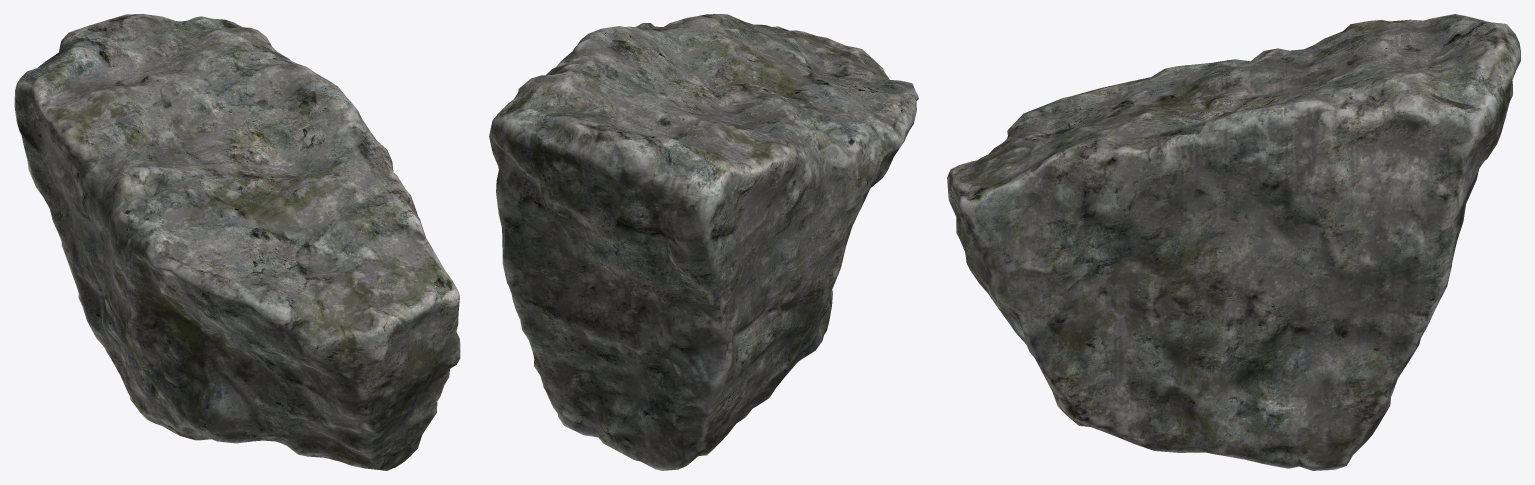
File: SM_Stone_A.fbx
3 views of the same model, side by side, from view 1: azimuth 30°, elevation 25°; view 2: azimuth 150°, elevation 25°; view 3: azimuth 270°, elevation 25° (orthographic). The views are drawn at different scales.
Parts seen in each view (by area): view 1: SM_Stone_A_LOD0; view 2: SM_Stone_A_LOD0; view 3: SM_Stone_A_LOD0.
Boxes of the visible parts, x1=… form: SM_Stone_A_LOD0: x1=14, y1=14, x2=460, y2=470; SM_Stone_A_LOD0: x1=489, y1=14, x2=918, y2=470; SM_Stone_A_LOD0: x1=947, y1=14, x2=1520, y2=470.
Size of the model in its own units: 106 by 198 by 147.
